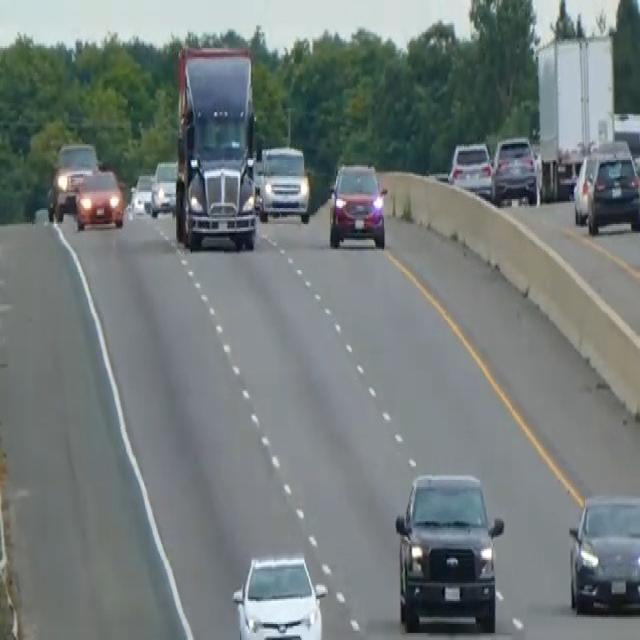car: (567, 491, 639, 615), (231, 551, 327, 638), (572, 140, 639, 234), (328, 158, 387, 249), (257, 142, 311, 224), (48, 138, 99, 218), (490, 134, 539, 206), (74, 167, 124, 231), (447, 139, 492, 197), (150, 158, 177, 217), (131, 171, 152, 213)
jeep: (392, 466, 505, 633)
lorry: (172, 41, 259, 251)
